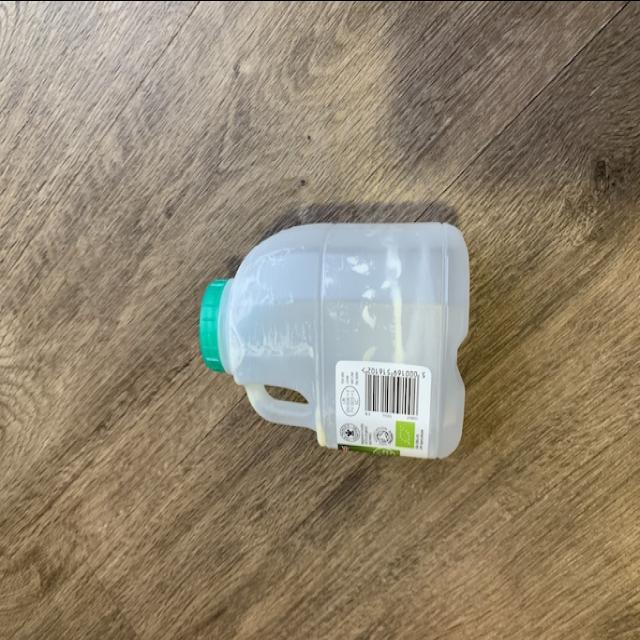HDPEM: (194, 214, 478, 468)
